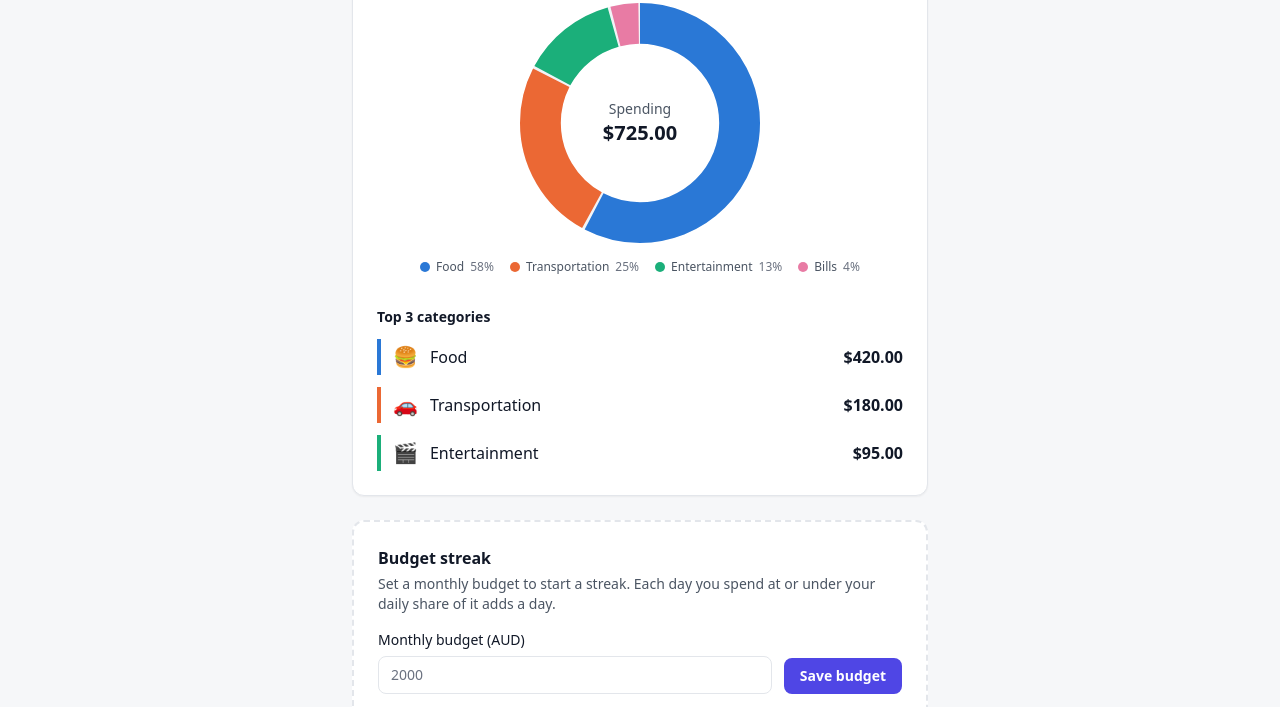
Scenario: MonthlyInsights › asks for a budget, validates it, then shows the streak
(page scrolled)
Type "0" into the field labelled "Monthly budget (AUD)" at (575, 675), box [378,656,772,694]
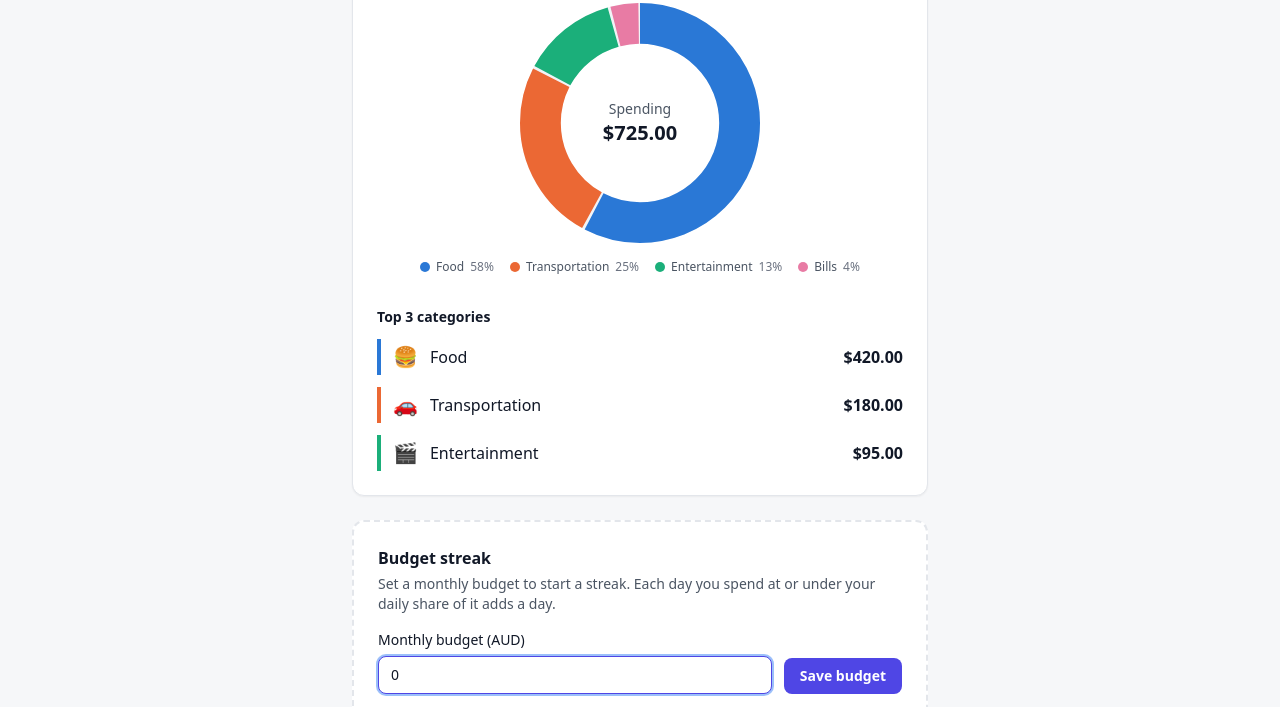
Click the button "Save budget" at (843, 676), box [784,658,902,694]
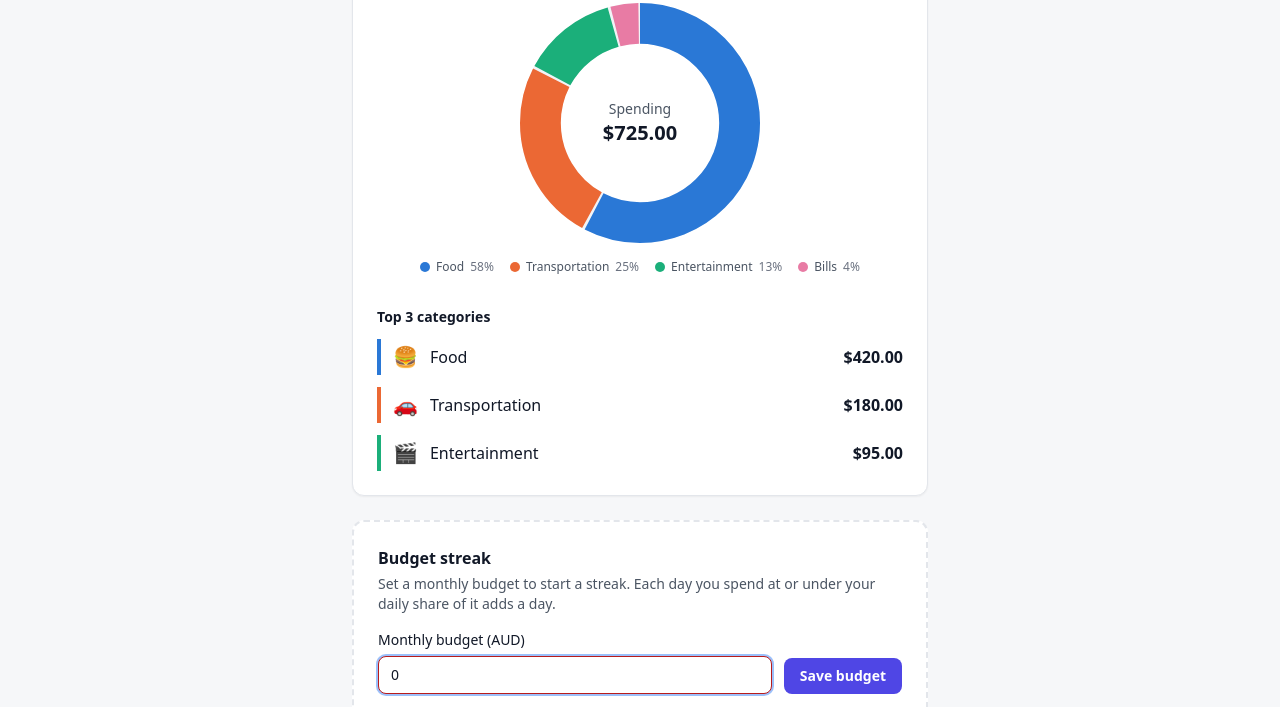
Replace the text in the field labelled "Monthly budget (AUD)" with "30,000" at (575, 675), box [378,656,772,694]
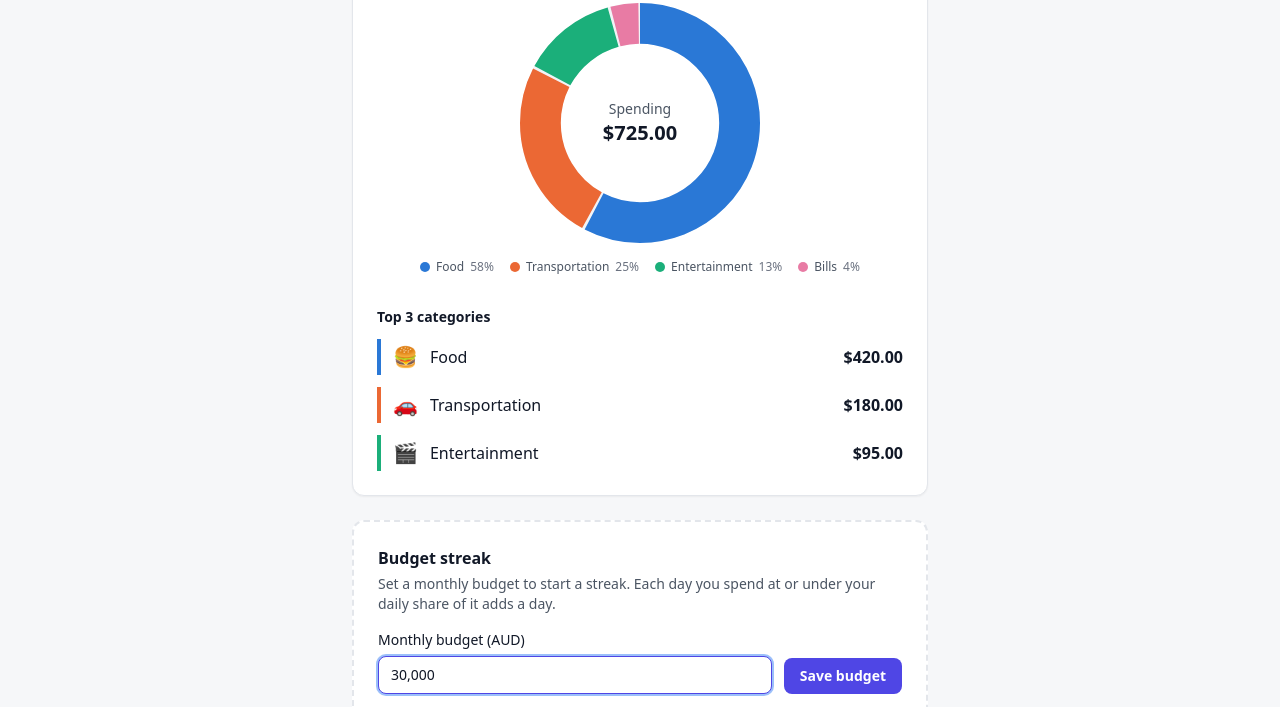
Click the button "Save budget" at (843, 676), box [784,658,902,694]
(page scrolled)
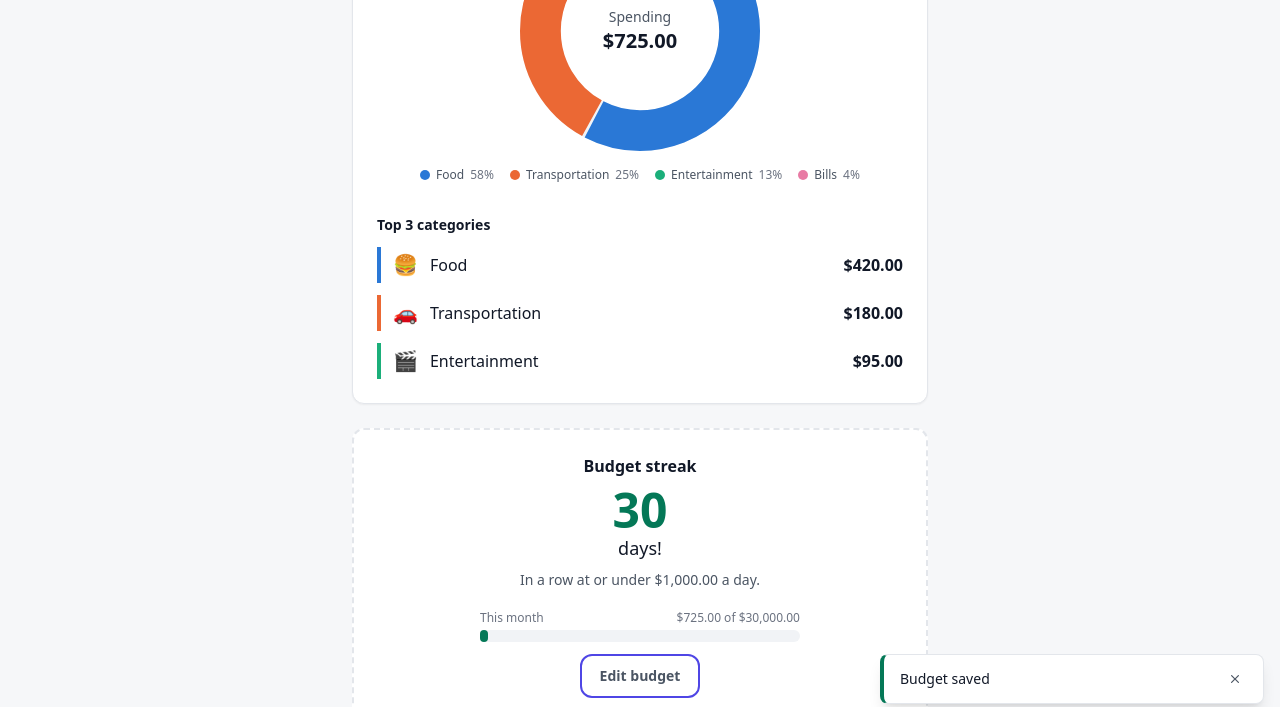
Expected: the text "30" is shown, [612,486,667,534]
Expected: the text "days!" is shown, [618,534,662,562]
Expected: the text "In a row at or under $1,000.00 a day." is shown, [520,570,760,589]
